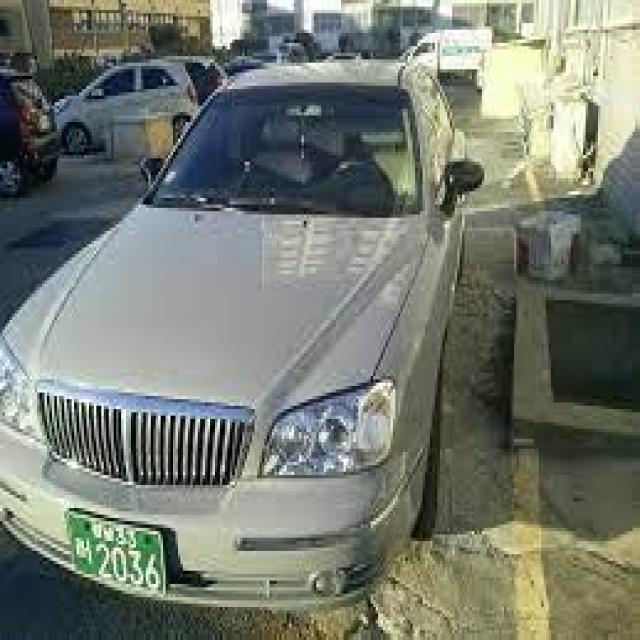car: (0, 49, 486, 615)
illegal_plate: (64, 506, 173, 603)
